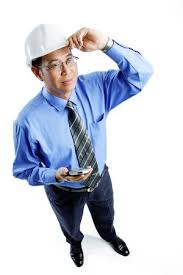Person_wearing_helmet: (23, 20, 80, 70)
